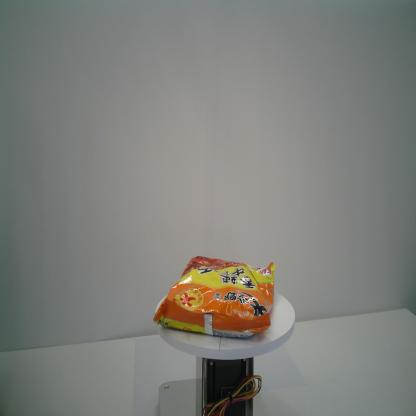Instant Noodles: (150, 253, 276, 338)
